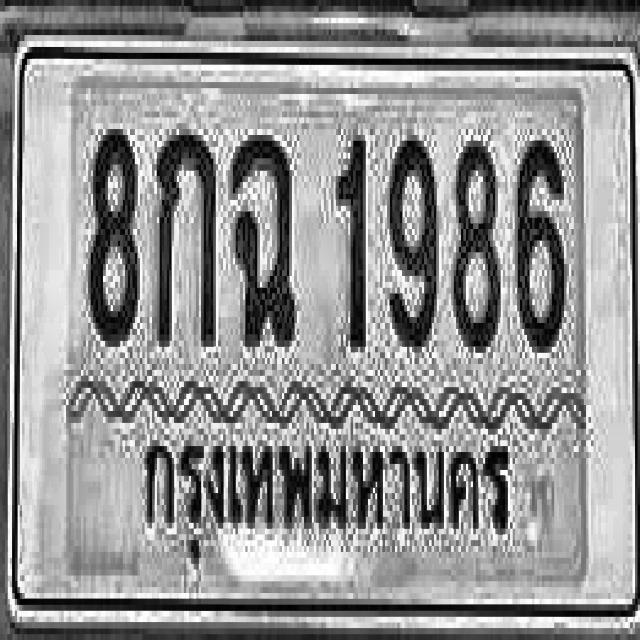license-plate: (2, 18, 640, 634)
